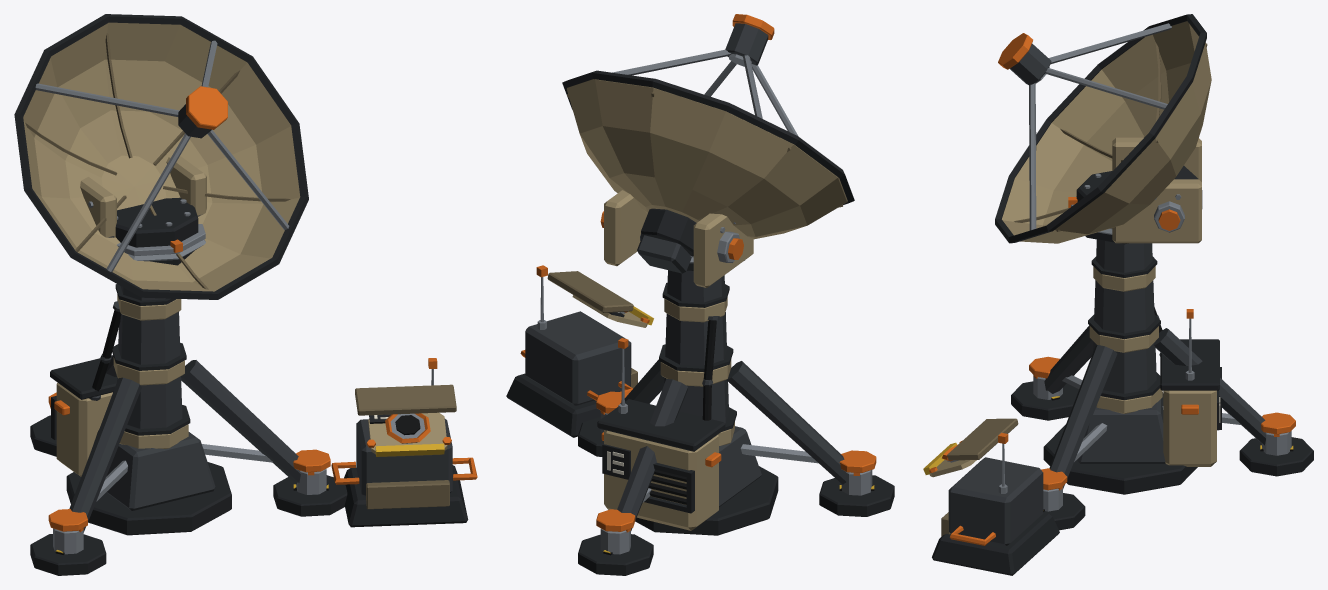
The model's file is uplink_dish.fbx.
The picture shows the model from 3 angles, left to right: view 1: azimuth 30°, elevation 25°; view 2: azimuth 150°, elevation 25°; view 3: azimuth 270°, elevation 25°; orthographic projection. The views are drawn at different scales.
Parts seen in each view (by area): view 1: Dish, Body, Terminal; view 2: Dish, Body, Terminal; view 3: Body, Dish, Terminal.
Boxes of the visible parts, x1,y1,x2,y2 form: Dish: [14, 14, 308, 299]; Body: [30, 239, 347, 575]; Terminal: [331, 358, 477, 527]; Dish: [562, 14, 854, 287]; Body: [578, 257, 894, 575]; Terminal: [506, 265, 653, 437]; Body: [1011, 229, 1313, 530]; Dish: [995, 14, 1211, 243]; Terminal: [923, 418, 1059, 575].
Size of the model in its own units: 7.39 by 7.91 by 6.54.
Materials: 3 (3 with a texture image).
